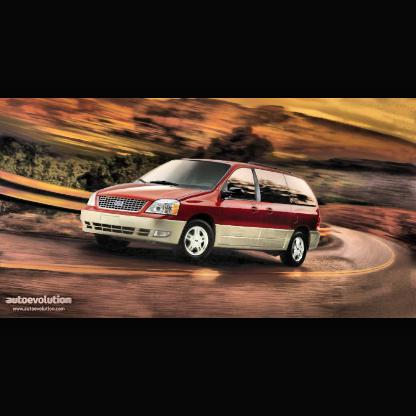Ford Freestar Minivan 2007: (81, 156, 321, 270)
